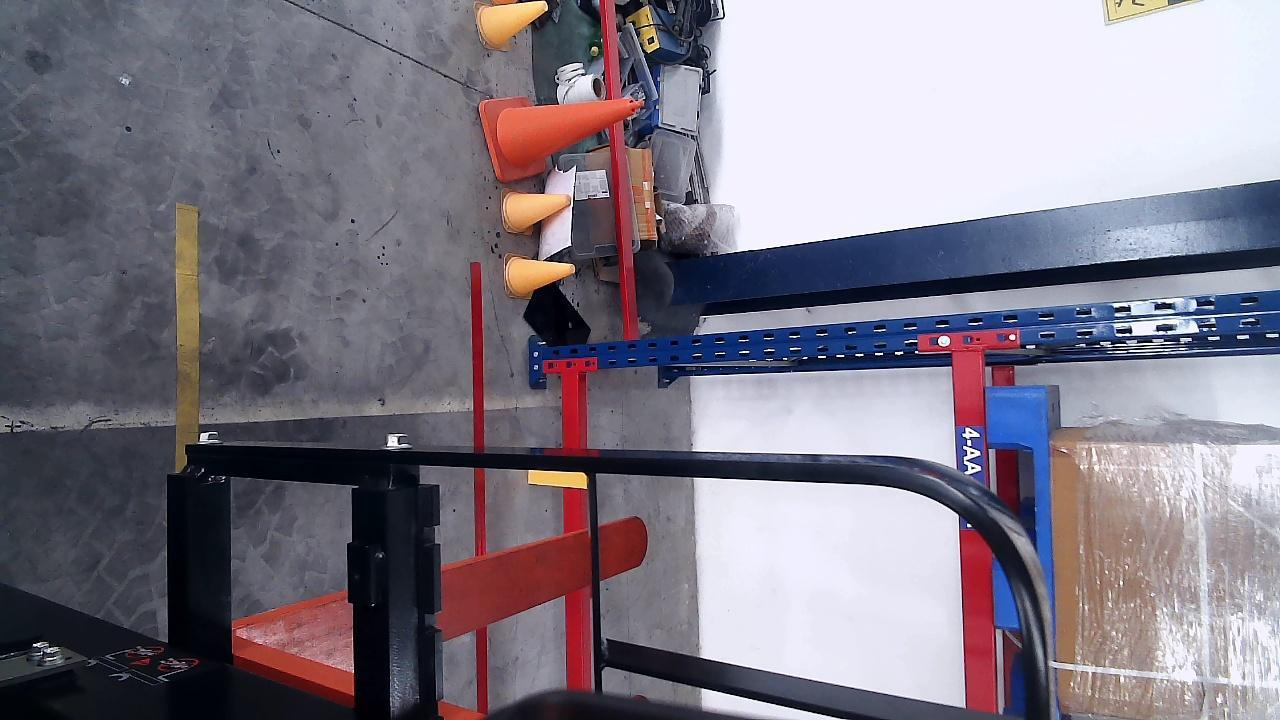h_rack: (953, 351, 997, 710), (561, 370, 592, 686)
red_line: (470, 259, 487, 714)
small_pallet: (988, 390, 1054, 716)
yellow_line: (173, 202, 202, 443)
